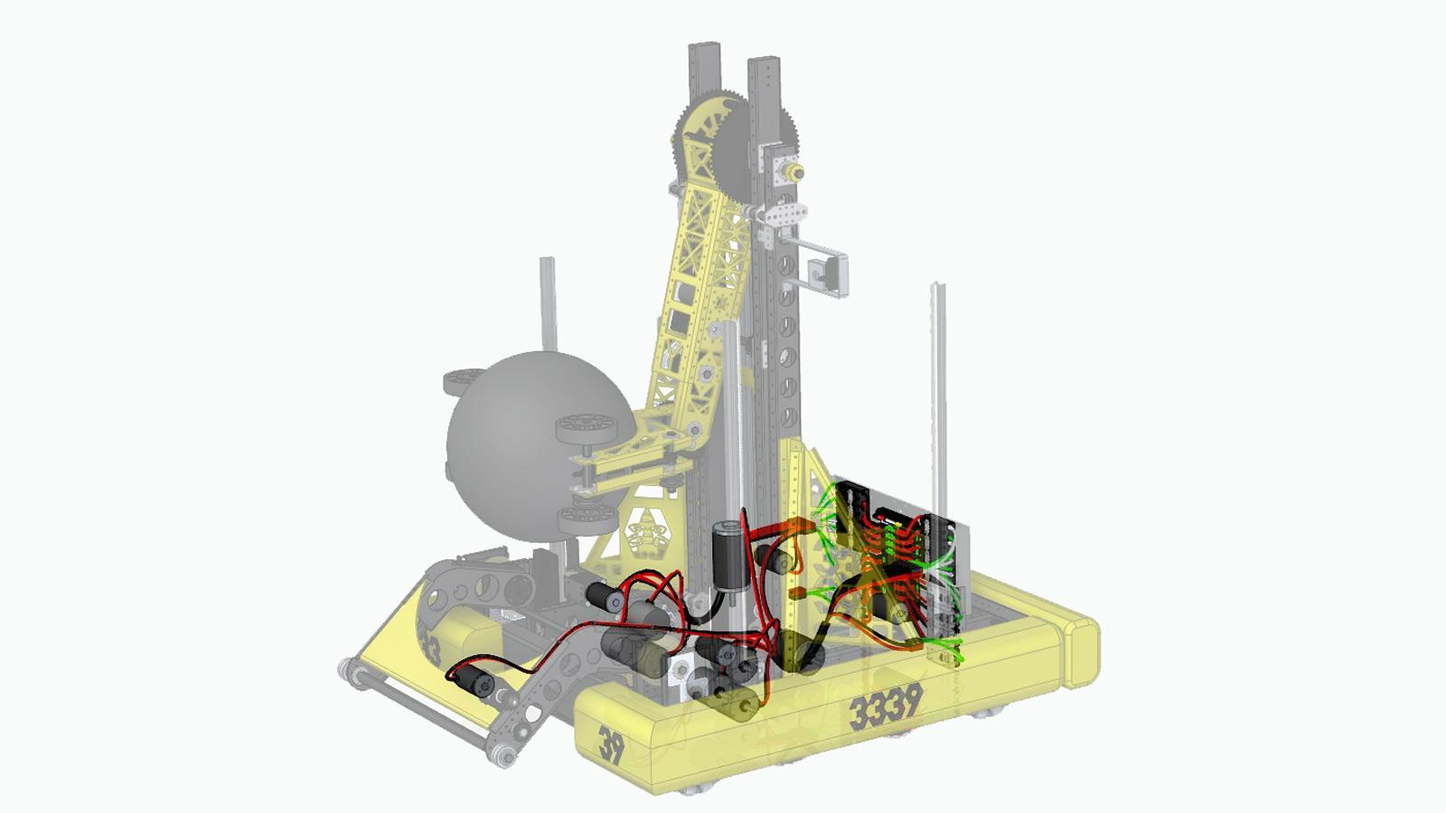robot: (323, 26, 1109, 807)
